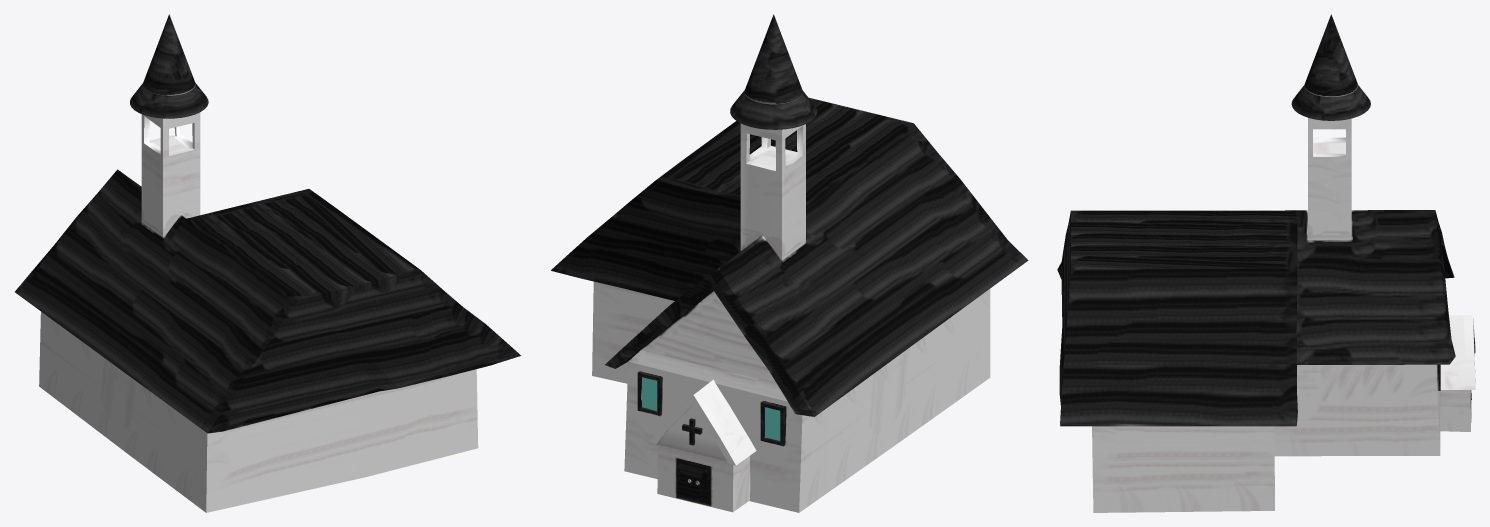
The model's file is Church.fbx.
3 views of the same model, side by side, from view 1: azimuth 30°, elevation 25°; view 2: azimuth 150°, elevation 25°; view 3: azimuth 270°, elevation 25° (orthographic). The views are drawn at different scales.
Visible parts, largest first — view 1: front1; view 2: front1; view 3: front1.
Part boxes in pixels (box(x1,y1,x2,y2)): front1: box(15, 14, 521, 512); front1: box(551, 14, 1028, 512); front1: box(1057, 14, 1475, 512).
Size of the model in its own units: 75.89 by 91.59 by 85.69.
Materials: 1 (1 with a texture image).
